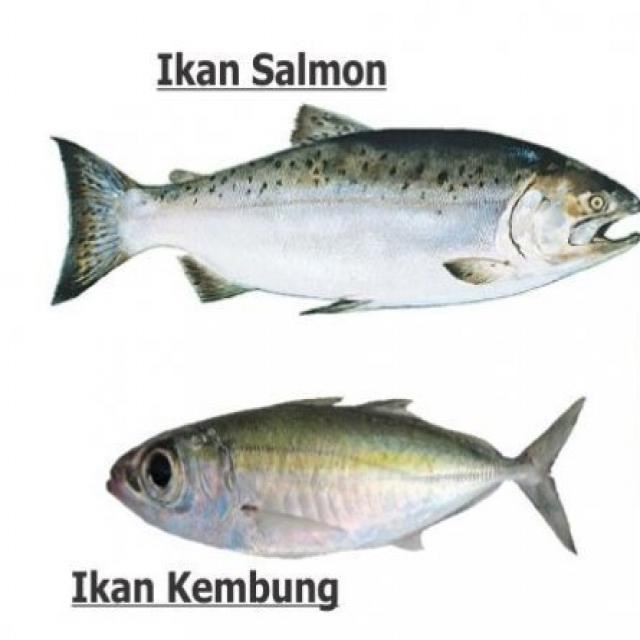salmon: (26, 92, 636, 329)
